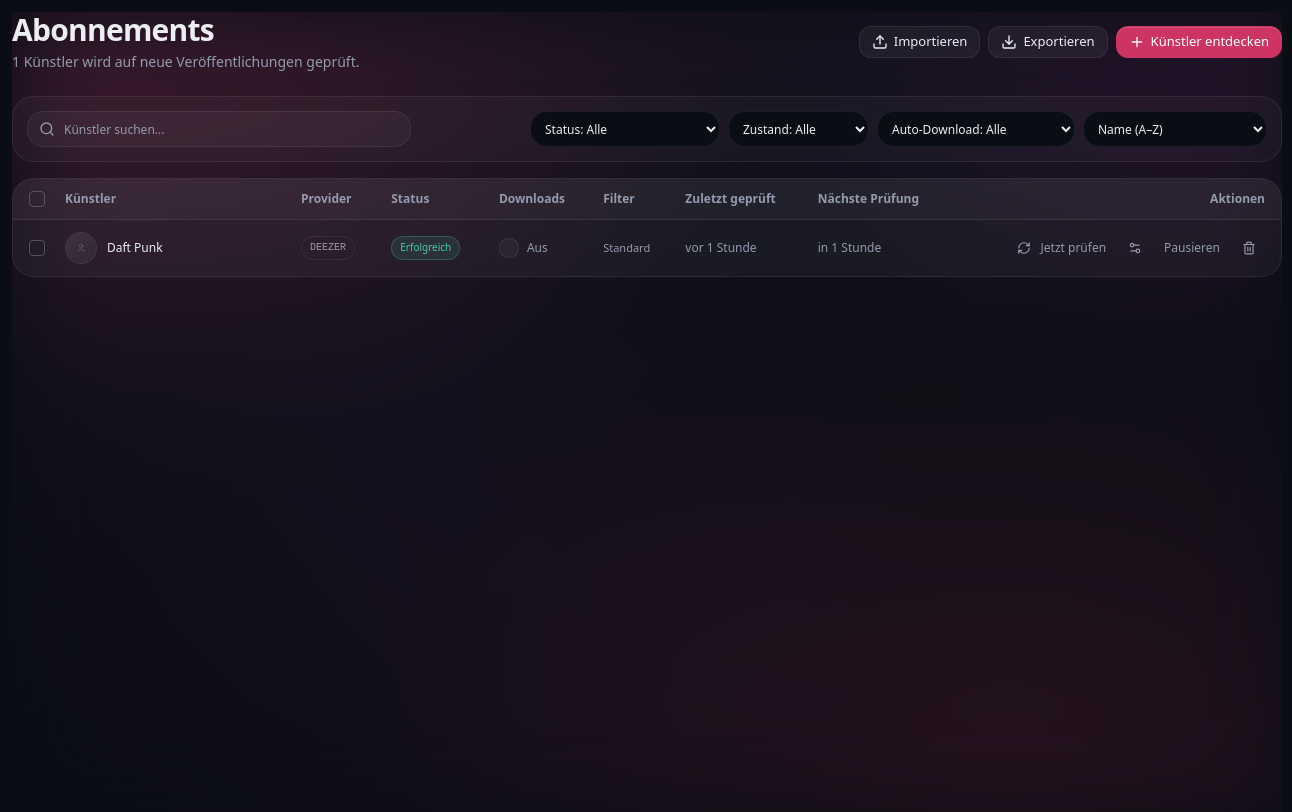
Test: Subscriptions page › asks before removing a subscription, then removes it
Click the button named "Daft Punk entfernen": (1249, 248) [1233,234,1265,262]
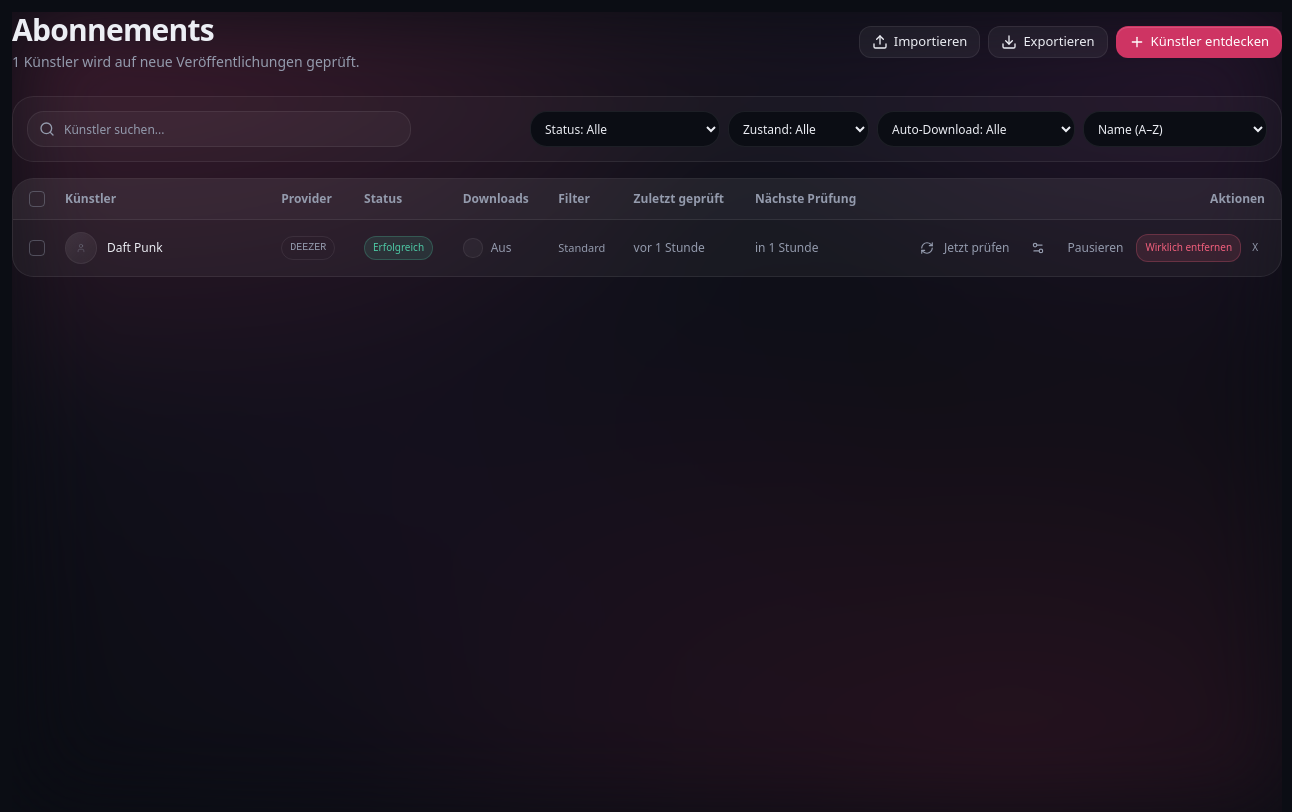
Click the button with aria-label "Daft Punk wirklich entfernen": (1189, 248) [1136,234,1241,262]
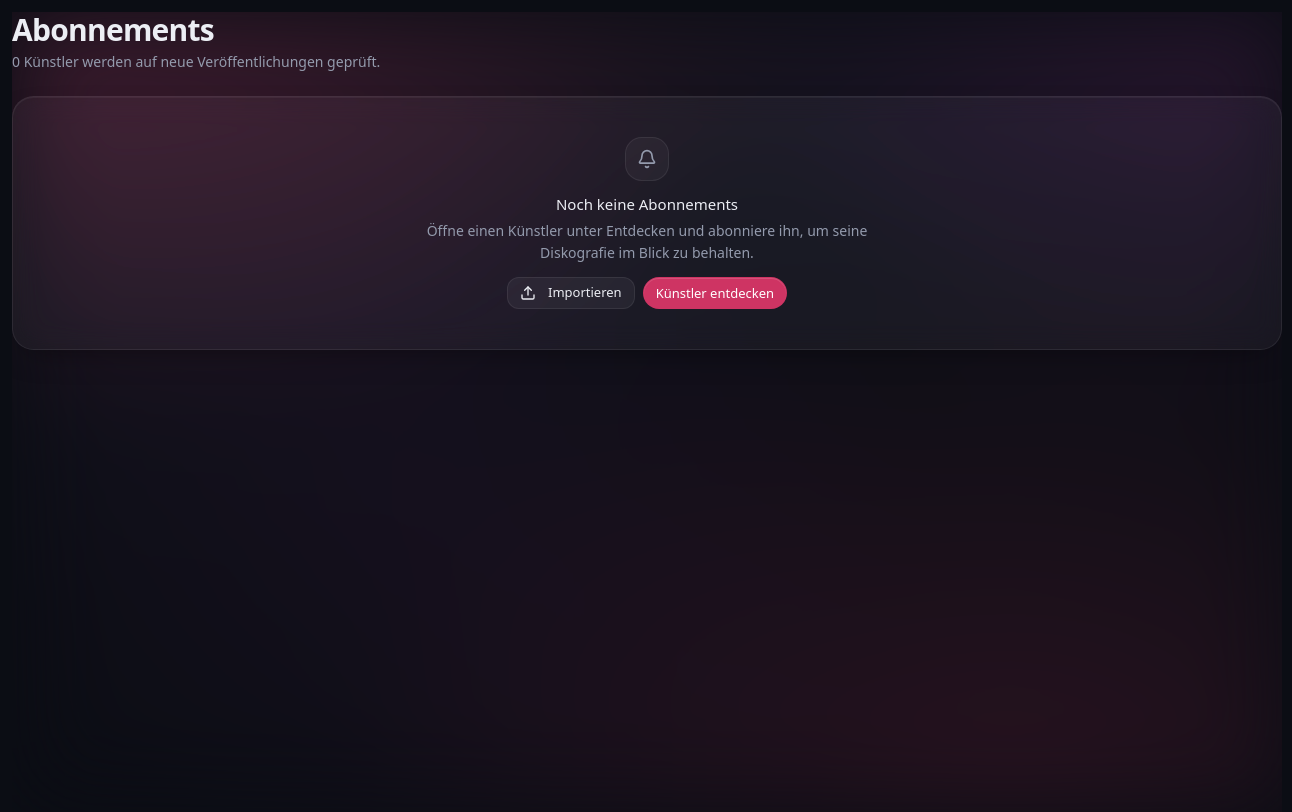
expect the text "Noch keine Abonnements" is shown: met, box [556,194,738,214]
